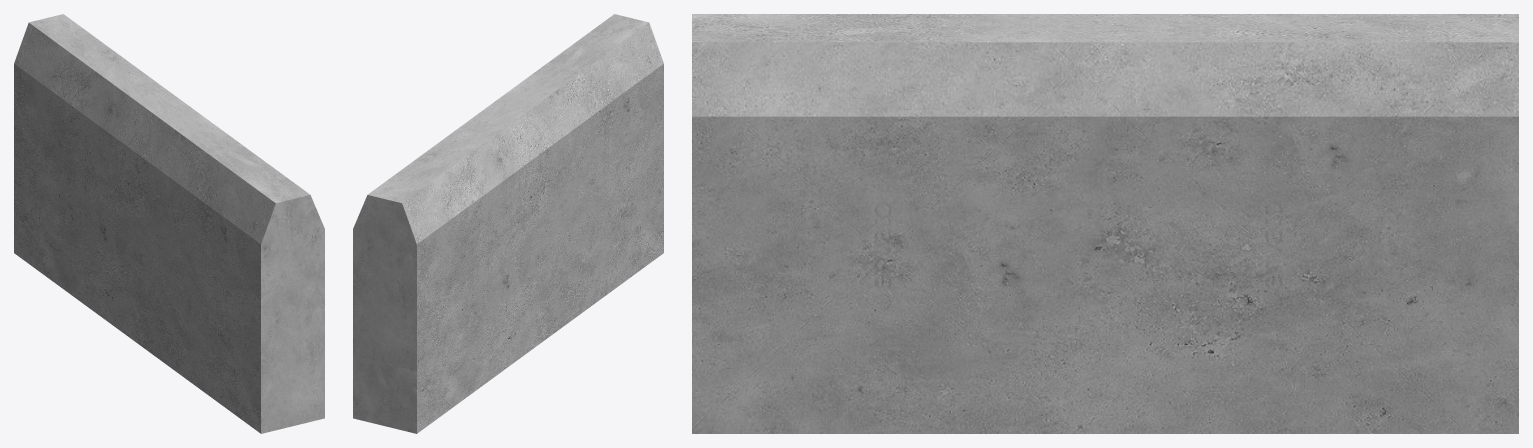
The model's file is WallLod.fbx.
3 renders of one model, left to right at view 1: azimuth 30°, elevation 25°; view 2: azimuth 150°, elevation 25°; view 3: azimuth 270°, elevation 25°, orthographic. The views are drawn at different scales.
Parts seen in each view (by area): view 1: Cube.028; view 2: Cube.028; view 3: Cube.028.
Part boxes in pixels (x1,y1,x2,y2): Cube.028: (14,14,324,433); Cube.028: (353,14,663,433); Cube.028: (692,14,1518,433).
Bounding box in the file's own units: 125 × 425 × 839.
